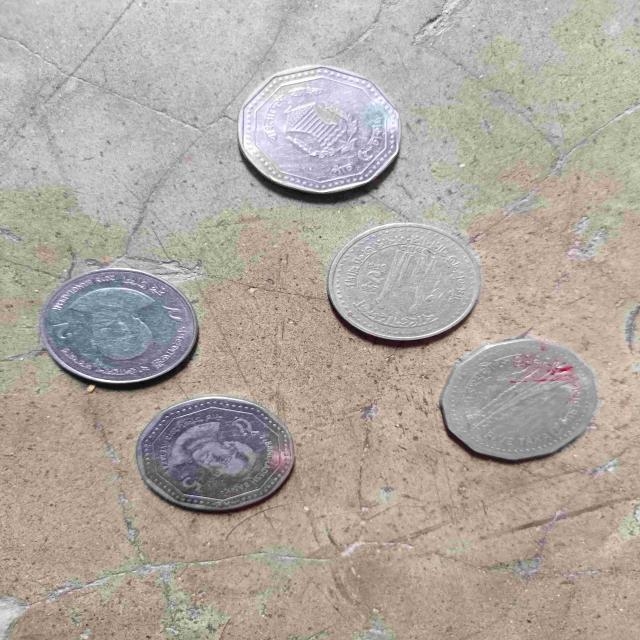1_taka: (318, 222, 490, 346)
2_taka: (18, 258, 226, 392)
5_taka: (212, 52, 426, 208), (123, 394, 325, 522), (439, 340, 618, 473)
